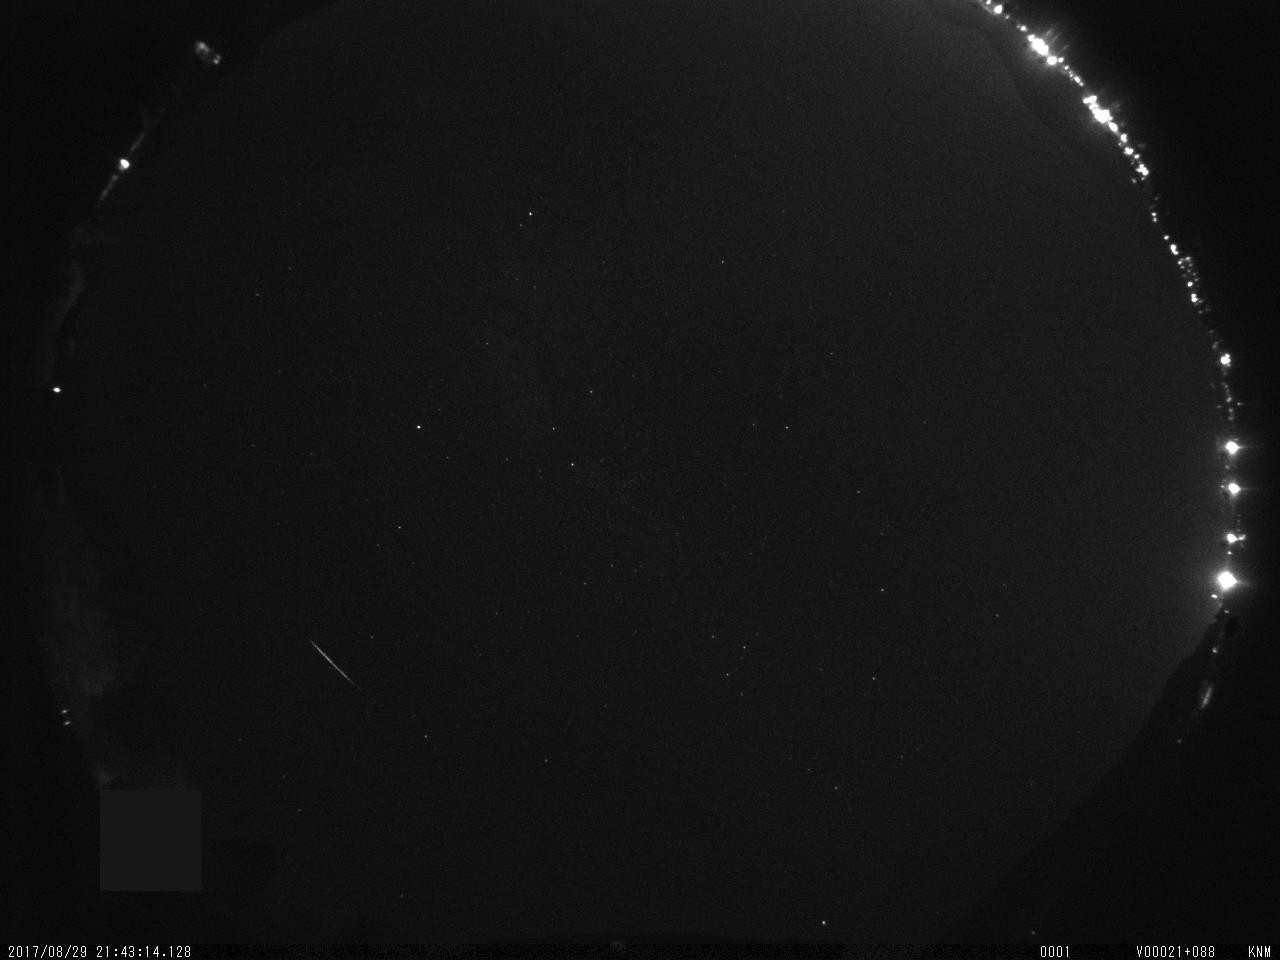Meteor: (304, 634, 360, 692)
